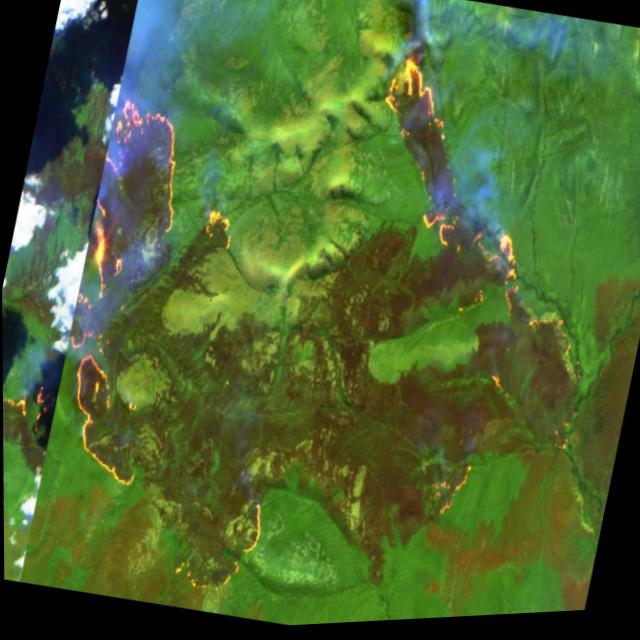fire: (331, 29, 568, 333), (66, 71, 265, 356), (46, 328, 167, 511), (164, 489, 283, 623), (413, 451, 484, 538)
